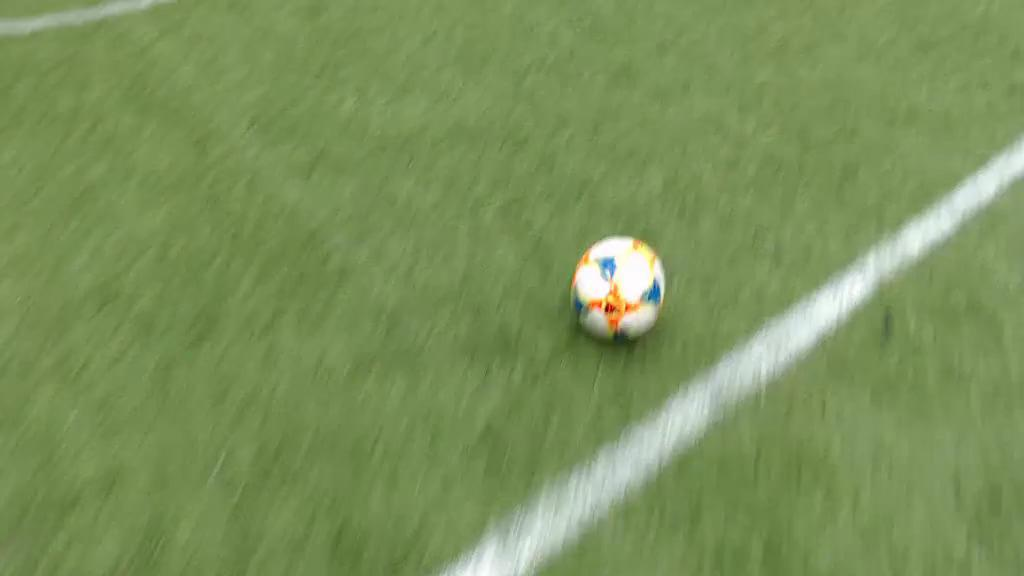ball: (572, 237, 665, 344)
